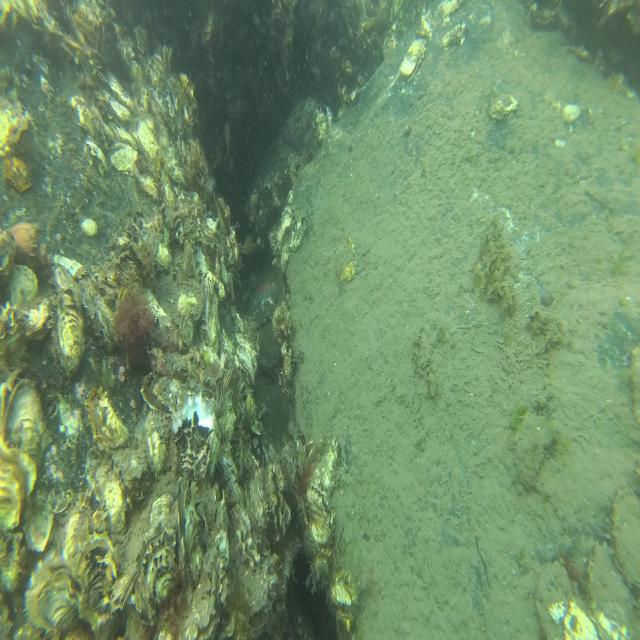starfish: (252, 280, 277, 307), (282, 128, 304, 152)
